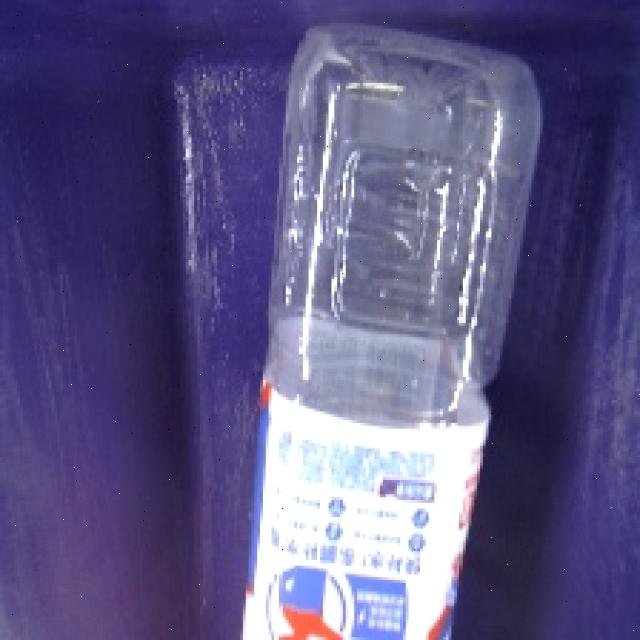plastic: (222, 5, 556, 640)
